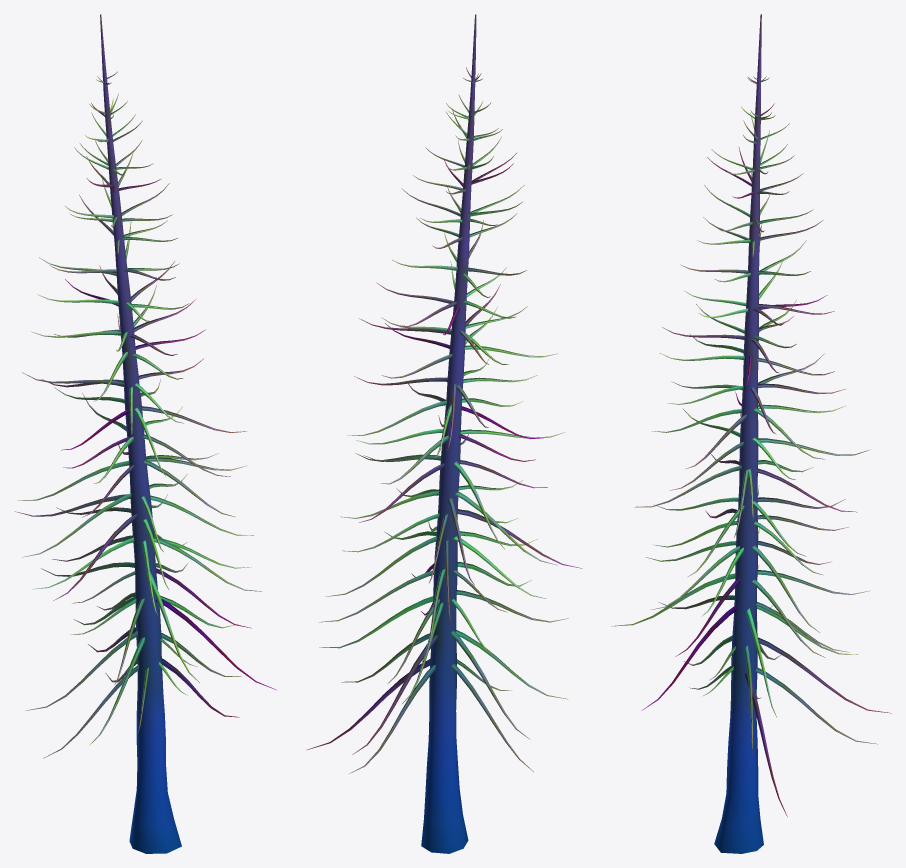
Rendered from spruce-grove-b.glb.
The picture shows the model from 3 angles, left to right: view 1: azimuth 30°, elevation 25°; view 2: azimuth 150°, elevation 25°; view 3: azimuth 270°, elevation 25°; orthographic projection. The views are drawn at different scales.
Visible parts, largest first — view 1: bark; view 2: bark; view 3: bark.
Part boxes in pixels (left/top/right/bottom): bark: left=14, top=14, right=276, bottom=853; bark: left=306, top=14, right=582, bottom=853; bark: left=611, top=14, right=891, bottom=853.
Size of the model in its own units: 8.45 by 28.91 by 9.08.
